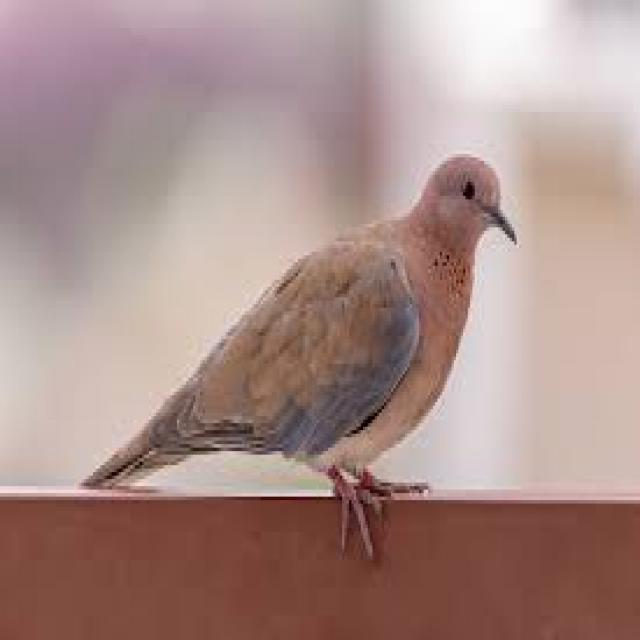bird: (78, 149, 524, 568)
